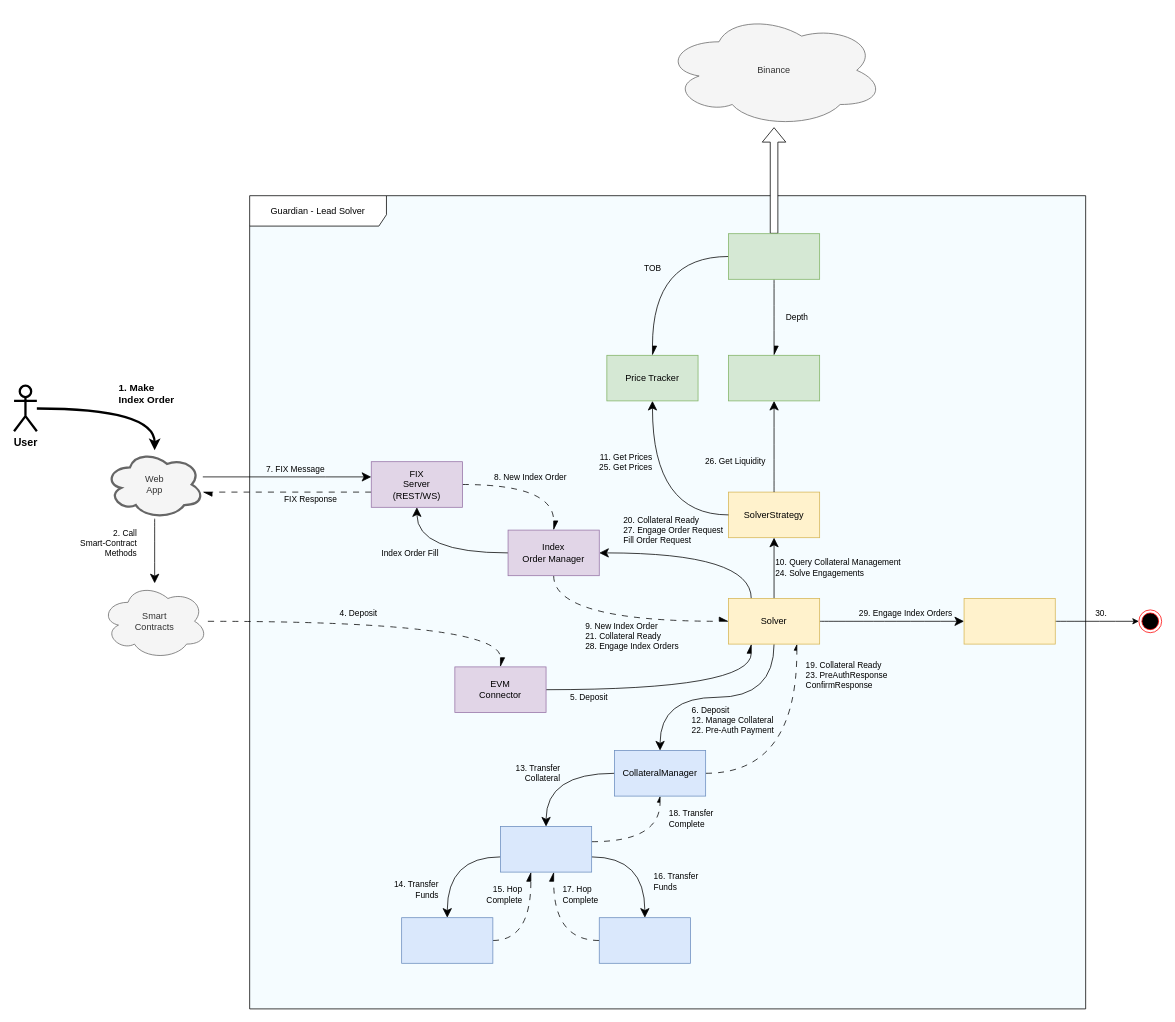
Some shapes in this 1175 by 1022 pixel diagram are drawn without their labels. Each missing label, with the centre of its shape:
Batch Manager: the point at 1009,621
Binance Market Data Connector: the point at 774,256
Collateral Bridge: Arbitrum -> Base: the point at 447,940
Collateral Bridge: Base -> Binance: the point at 644,940
Collateral Router: the point at 546,849
Order Book Manager: the point at 774,378
